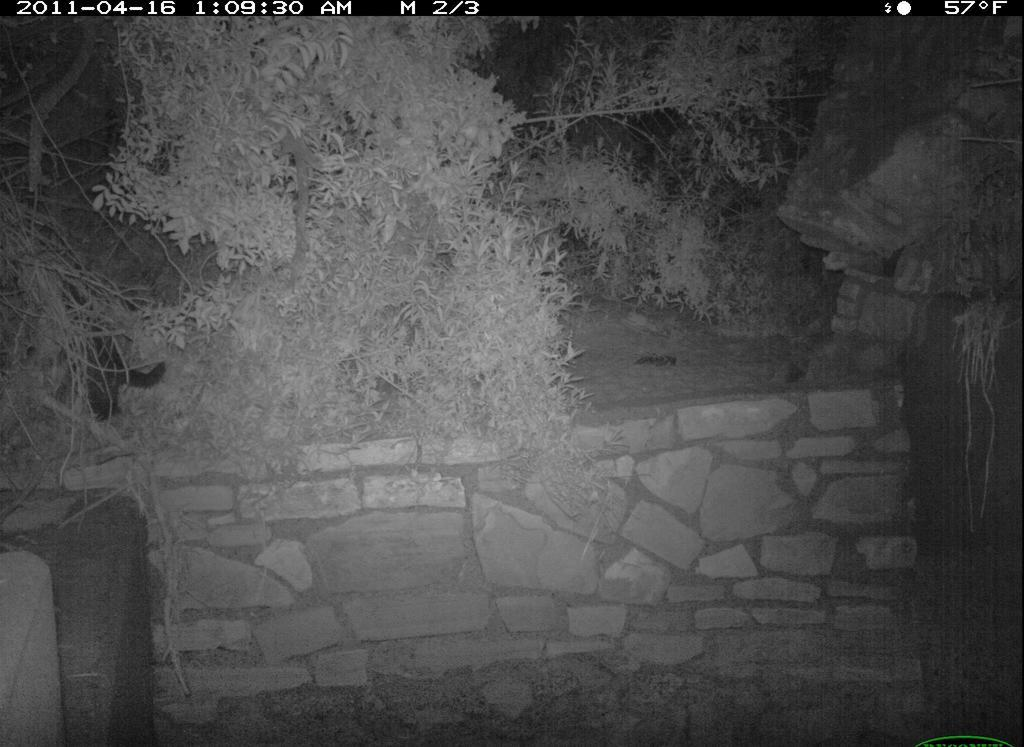cat: (29, 272, 178, 441)
